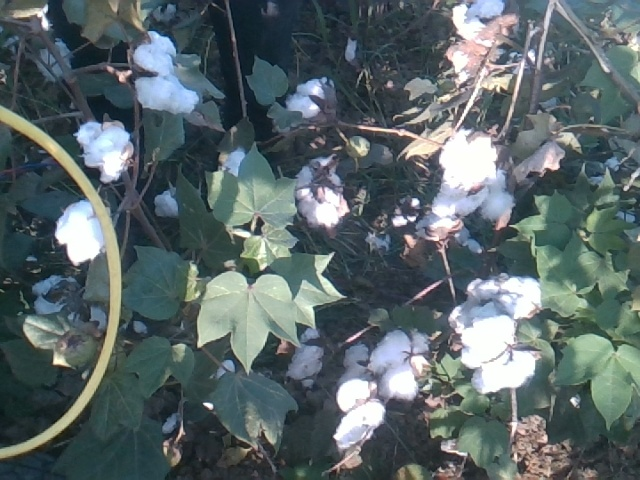cotton: (445, 265, 546, 334), (461, 322, 537, 396), (430, 128, 501, 193), (29, 276, 109, 331), (293, 151, 349, 228), (369, 334, 431, 402), (71, 121, 136, 185), (54, 197, 111, 268), (417, 202, 484, 255), (285, 327, 325, 395), (426, 173, 489, 216), (130, 75, 200, 113), (336, 410, 387, 456), (478, 164, 511, 235), (449, 1, 497, 49), (126, 34, 179, 75), (282, 79, 338, 117), (36, 38, 79, 82), (337, 374, 382, 408), (154, 185, 203, 215), (387, 194, 423, 227), (458, 1, 507, 22), (364, 221, 393, 252), (219, 150, 252, 177), (339, 345, 371, 371), (210, 360, 240, 381), (160, 409, 178, 435), (130, 320, 148, 334)
